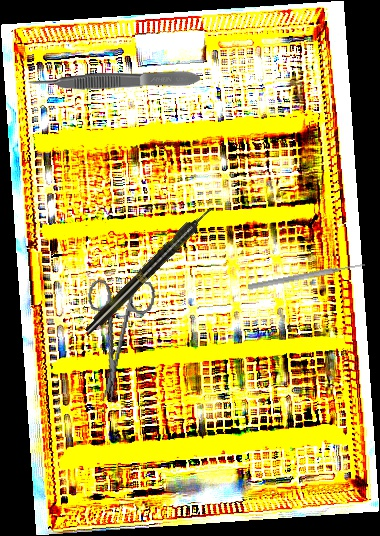Handpiece: (81, 202, 218, 338)
Iris Scissors: (72, 273, 157, 407)
Pusher: (247, 260, 366, 292)
Tissue Forceps: (27, 69, 201, 91)
